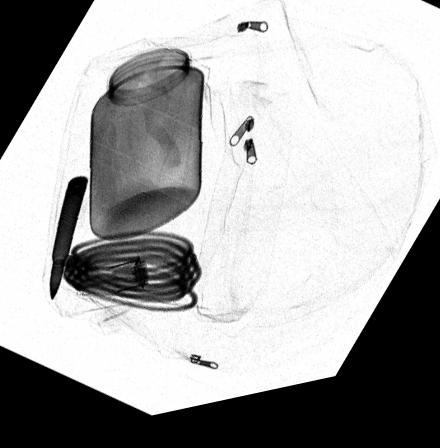Bullet: (47, 177, 88, 302)
